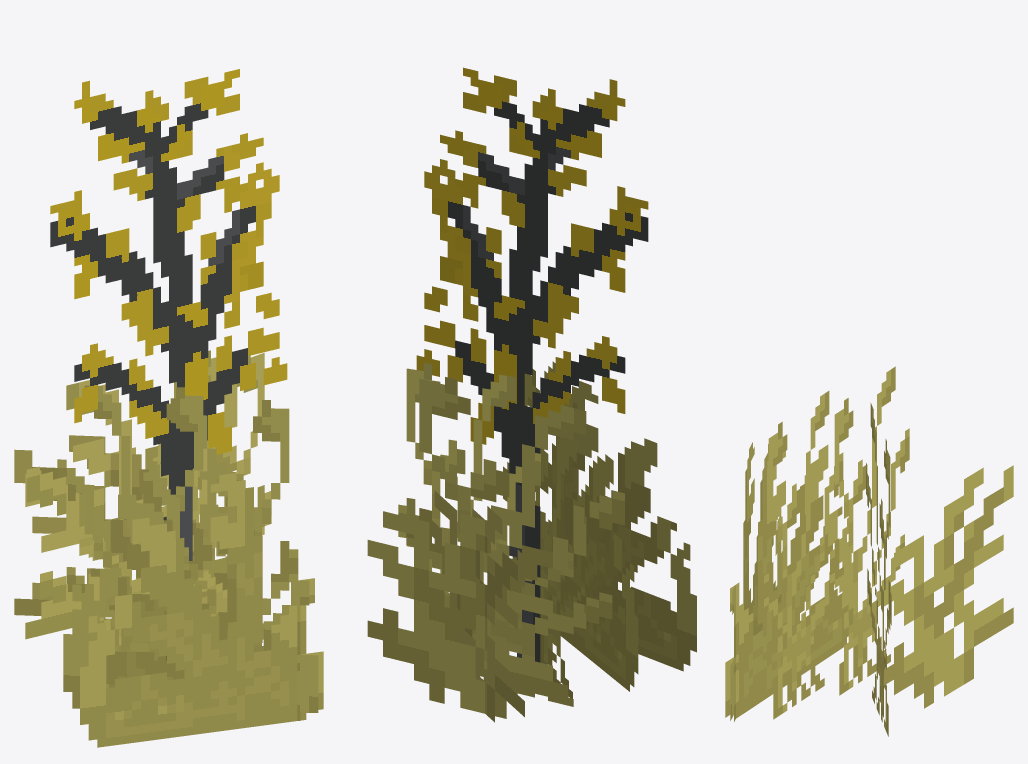
The model's file is Enviroment.gltf.
3 renders of one model, left to right at view 1: azimuth 30°, elevation 25°; view 2: azimuth 150°, elevation 25°; view 3: azimuth 270°, elevation 25°, orthographic. The views are drawn at different scales.
Visible parts, largest first — view 1: Grass, Tree; view 2: Grass, Tree; view 3: Grass.
Boxes of the visible parts, x1,y1,x2,y2 form: Grass: (14,350,323,747); Tree: (50,69,287,660); Grass: (367,361,696,722); Tree: (416,67,648,662); Grass: (725,366,1013,736).
Size of the model in its own units: 1.03 by 2.44 by 1.04.
Materials: 4 (4 with a texture image).
